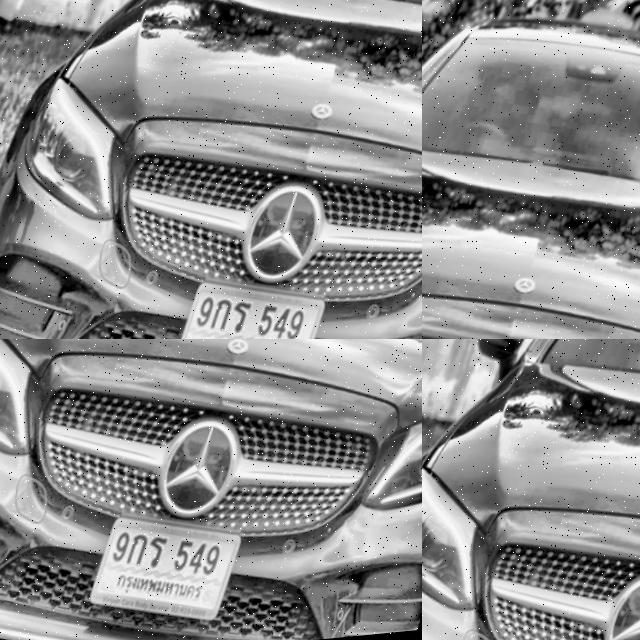license-plate: (0, 428, 364, 640)
